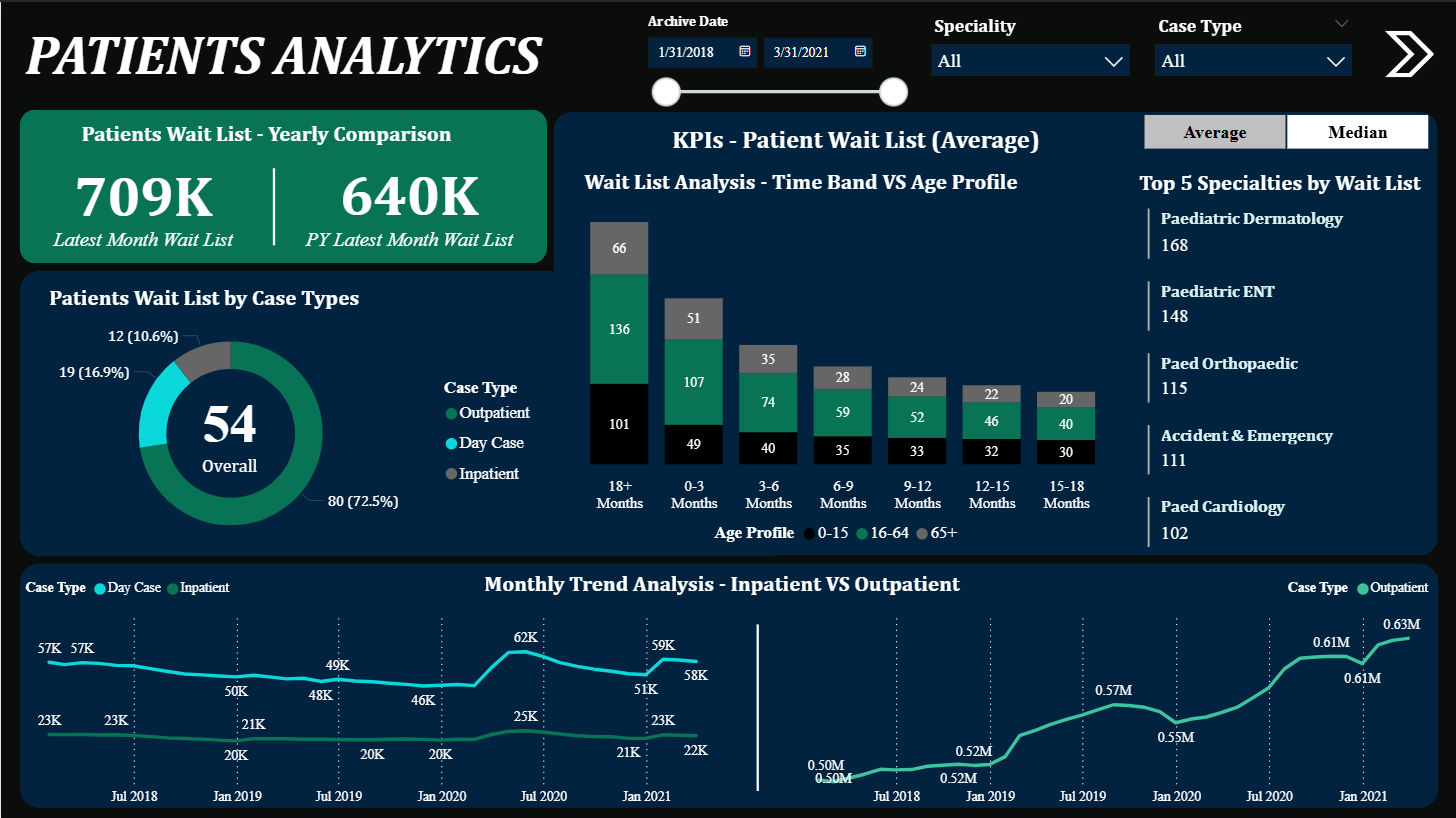

What the dashboard file says about the page in this screenshot:
{"tool":"powerbi","page":{"name":"Patients Analytics","canvas":[1280,720],"ordinal":0},"visuals":[{"type":"shape","box":[16,94.8,464,135.4],"z":0},{"type":"shape","box":[16,236.3,676.9,251.1],"z":1000},{"type":"shape","box":[16,493.5,1248,215.4],"z":2000},{"type":"shape","box":[486.2,97.2,777.8,390.2],"z":3000},{"type":"card","fields":{"Values":["All_Patients_Data.Current Month Wait List"]},"box":[13,120.5,224,112],"z":4000},{"type":"card","fields":{"Values":["All_Patients_Data.PY Latest Month Wait List"]},"box":[247.3,121,223.9,112],"z":5000},{"type":"textbox","box":[16.6,13,509.6,80.6],"z":6000},{"type":"slicer","fields":{"Values":["Wait List Calc Method.Wait List Calc"]},"box":[981.7,94.4,297.8,38.7],"z":7000},{"type":"donutChart","fields":{"Category":["All_Patients_Data.Case_Type"],"Y":["All_Patients_Data.Avg/Med"]},"box":[9.7,268.7,469.7,222.7],"z":8000},{"type":"columnChart","fields":{"Y":["All_Patients_Data.Avg/Med"],"Category":["All_Patients_Data.Time_Bands"],"Series":["All_Patients_Data.Age_Profile"]},"box":[478.1,146.5,516.9,341.4],"z":9000},{"type":"multiRowCard","title":"Top 5 Speciality","fields":{"Values":["All_Patients_Data.Avg/Med Wait List","All_Patients_Data.Speciality_Name"]},"box":[1003.9,176.6,253.6,349.6],"z":10000},{"type":"card","fields":{"Values":["All_Patients_Data.LeftBlankChart"]},"box":[136.6,582.2,343.4,48],"z":11000},{"type":"lineChart","fields":{"Category":["All_Patients_Data.Archive_Date"],"Y":["Sum(All_Patients_Data.Total)"],"Series":["All_Patients_Data.Case_Type"]},"box":[16.6,496.6,622.2,216.9],"z":12000},{"type":"card","fields":{"Values":["All_Patients_Data.RightBlankChart"]},"box":[806.2,582.2,343.4,48],"z":13000},{"type":"lineChart","fields":{"Category":["All_Patients_Data.Archive_Date"],"Y":["Sum(All_Patients_Data.Total)"],"Series":["All_Patients_Data.Case_Type"]},"box":[693.3,496.6,571.3,216.9],"z":14000},{"type":"slicer","title":"Archive Date","fields":{"Values":["All_Patients_Data.Archive_Date"]},"box":[556.3,4.9,249.8,89.8],"z":15000},{"type":"slicer","fields":{"Values":["All_Patients_Data.Case_Type"]},"box":[1005.5,6.2,193.2,64],"z":16000},{"type":"slicer","fields":{"Values":["All_Patients_Data.Speciality_Name"]},"box":[808.6,6.2,194.5,64],"z":17000},{"type":"card","fields":{"Values":["All_Patients_Data.Avg/Med Wait List"]},"box":[158.8,328.6,86.2,96],"z":18000},{"type":"textbox","box":[66.5,99.7,347.1,39.4],"z":19000},{"type":"textbox","box":[36.9,243.7,317.5,38.2],"z":20000},{"type":"textbox","box":[508.4,141.6,400.7,38.7],"z":21000},{"type":"textbox","box":[996.2,142.8,265.1,37.5],"z":22000},{"type":"textbox","box":[419.7,496,440.6,39.4],"z":23000},{"type":"card","fields":{"Values":["All_Patients_Data.Dynamic Title"]},"box":[581,98.1,343.8,48.4],"z":24000},{"type":"shape","box":[215.4,146.5,49.2,67.7],"z":25000},{"type":"shape","box":[641.2,547.7,49.2,146.5],"z":26000},{"type":"actionButton","box":[1217.8,25.4,43.6,41.2],"z":27000}]}

Visuals, with their boxes in screenshot pixels (x1, y1, x2, y2), scaled from the page's 1280x720 canvas onto the 1456x818 screenshot:
shape: (18,108,546,262)
shape: (18,268,788,554)
shape: (18,561,1438,805)
shape: (553,110,1438,554)
card - All_Patients_Data.Current Month Wait List: (15,137,270,264)
card - All_Patients_Data.PY Latest Month Wait List: (281,137,536,265)
textbox: (19,15,599,106)
slicer - Wait List Calc Method.Wait List Calc: (1117,107,1455,151)
donutChart - All_Patients_Data.Case_Type x All_Patients_Data.Avg/Med: (11,305,545,558)
columnChart - All_Patients_Data.Avg/Med x All_Patients_Data.Time_Bands: (544,166,1132,554)
"Top 5 Speciality" multiRowCard: (1142,201,1430,598)
card - All_Patients_Data.LeftBlankChart: (155,661,546,716)
lineChart - All_Patients_Data.Archive_Date x Sum(All_Patients_Data.Total): (19,564,727,811)
card - All_Patients_Data.RightBlankChart: (917,661,1308,716)
lineChart - All_Patients_Data.Archive_Date x Sum(All_Patients_Data.Total): (789,564,1438,811)
"Archive Date" slicer: (633,6,917,108)
slicer - All_Patients_Data.Case_Type: (1144,7,1364,80)
slicer - All_Patients_Data.Speciality_Name: (920,7,1141,80)
card - All_Patients_Data.Avg/Med Wait List: (181,373,279,482)
textbox: (76,113,470,158)
textbox: (42,277,403,320)
textbox: (578,161,1034,205)
textbox: (1133,162,1435,205)
textbox: (477,564,979,608)
card - All_Patients_Data.Dynamic Title: (661,111,1052,166)
shape: (245,166,301,243)
shape: (729,622,785,789)
actionButton: (1385,29,1435,76)
